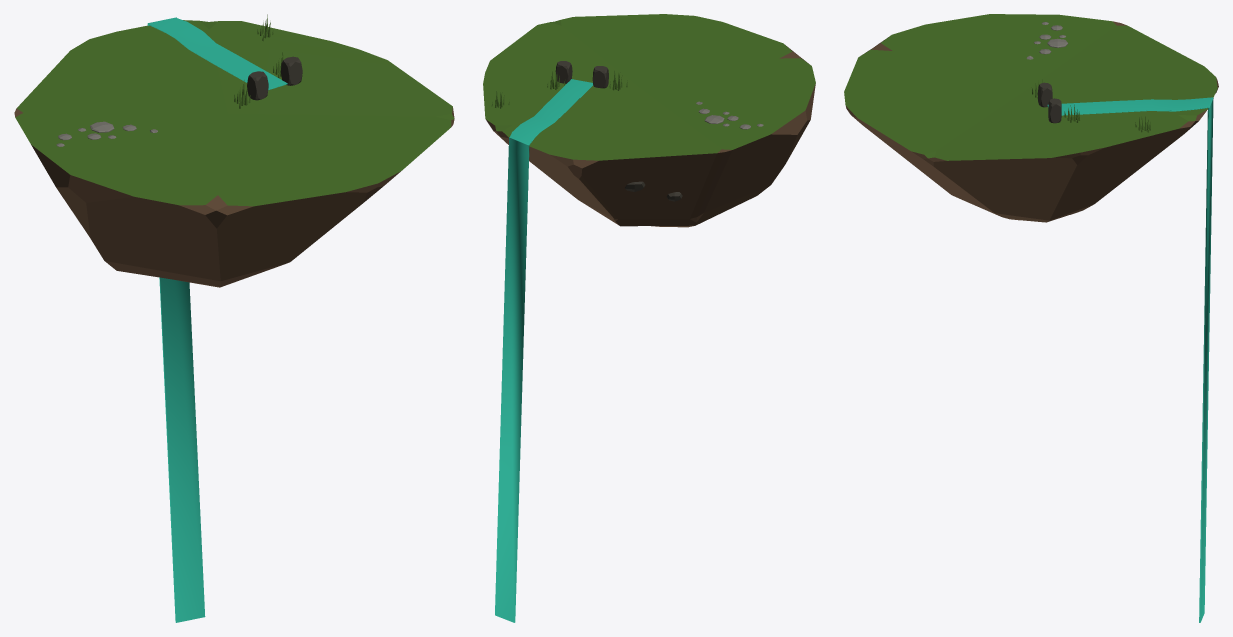
Rendered from Base-island.glb.
3 views of the same model, side by side, from view 1: azimuth 30°, elevation 25°; view 2: azimuth 150°, elevation 25°; view 3: azimuth 270°, elevation 25° (orthographic). The views are drawn at different scales.
Visible parts, largest first — view 1: Cube.010, Cube.047; view 2: Cube.010, Cube.047; view 3: Cube.010, Cube.047.
Part boxes in pixels (x1=…): Cube.010: x1=14, y1=20, x2=454, y2=287; Cube.047: x1=147, y1=17, x2=287, y2=622; Cube.010: x1=483, y1=14, x2=815, y2=227; Cube.047: x1=495, y1=79, x2=592, y2=622; Cube.010: x1=844, y1=14, x2=1218, y2=222; Cube.047: x1=1047, y1=97, x2=1213, y2=622.
Size of the model in its own units: 304 by 501 by 326.
